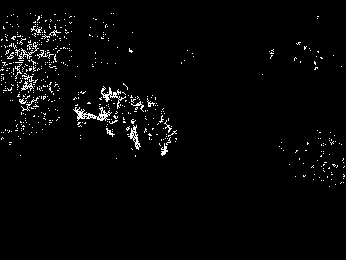person: (143, 94, 177, 156), (116, 82, 142, 148), (97, 87, 116, 135)
